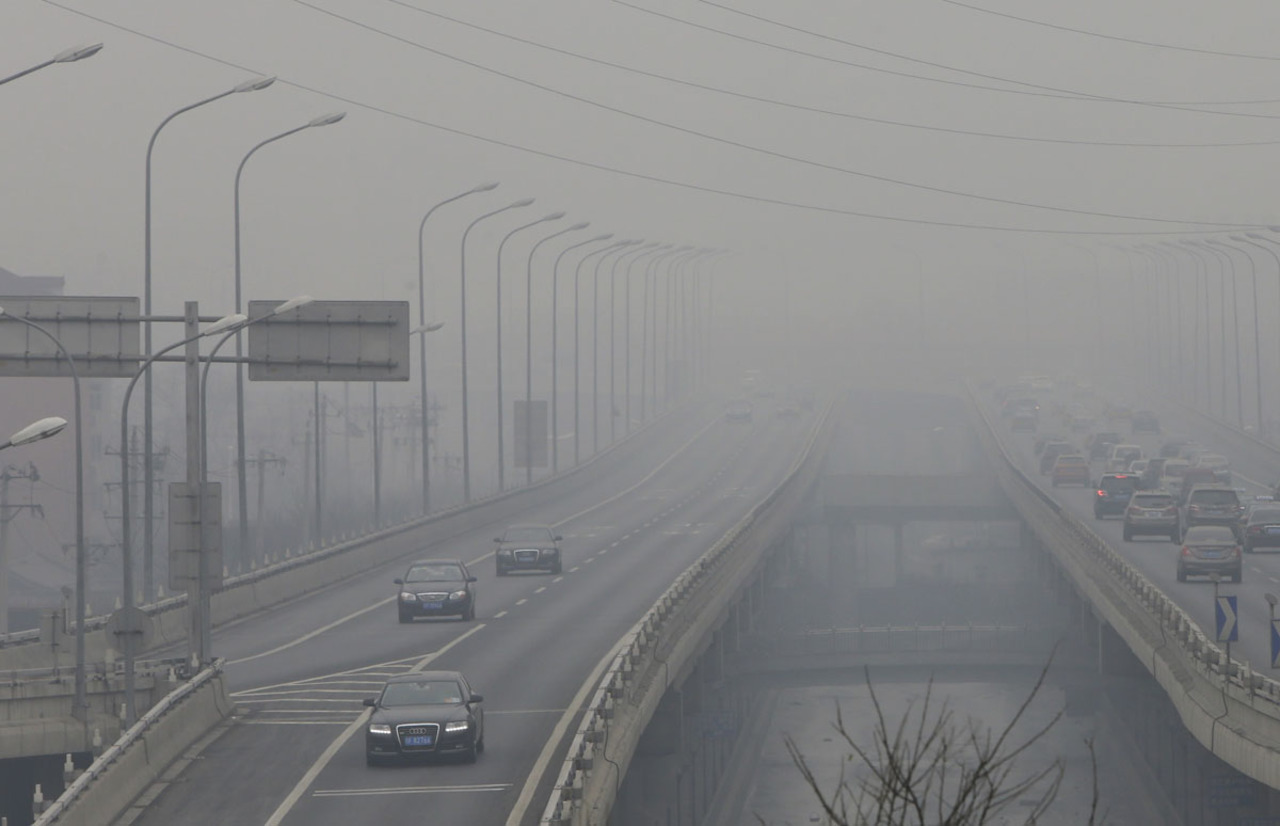car: (363, 674, 489, 763), (391, 557, 473, 620), (1175, 526, 1245, 584), (494, 523, 566, 577), (1175, 503, 1247, 554), (1123, 490, 1181, 541), (1189, 486, 1245, 526), (1095, 474, 1128, 524), (1241, 502, 1271, 554), (1054, 452, 1092, 485), (1107, 446, 1141, 472), (1201, 454, 1233, 481), (1002, 399, 1041, 419), (1161, 460, 1186, 491), (1038, 444, 1061, 475), (724, 398, 751, 422), (1014, 408, 1037, 432), (1128, 464, 1149, 482)
